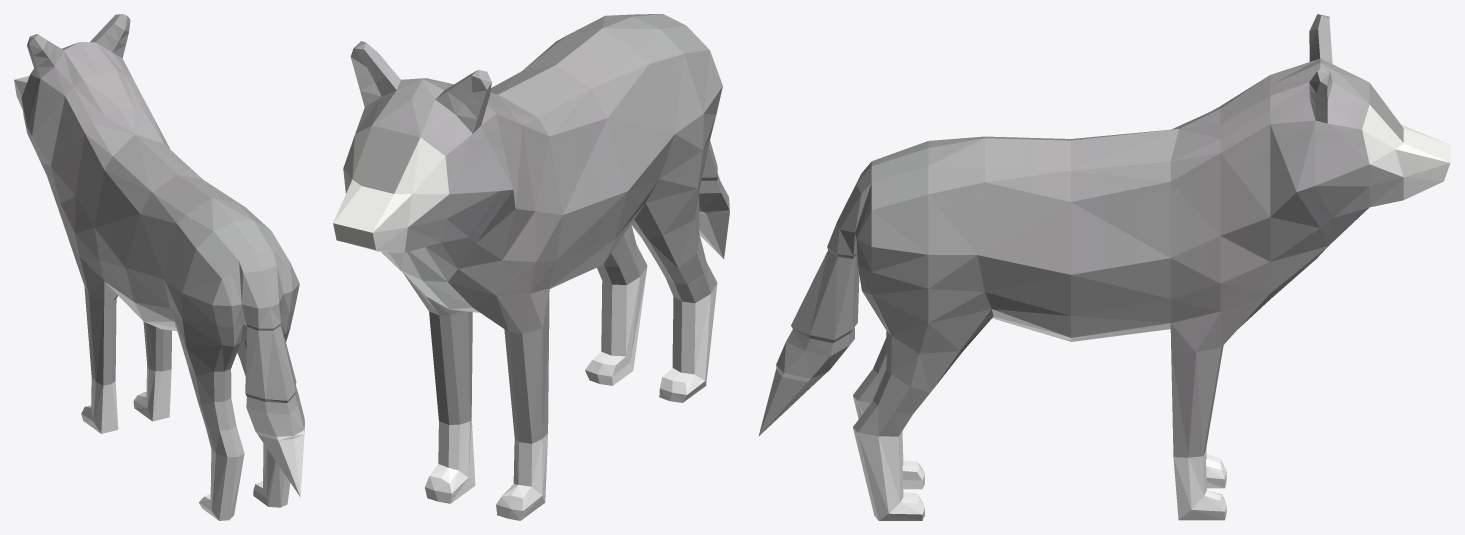
Rendered from grey-wolf_female.fbx.
3 renders of one model, left to right at view 1: azimuth 30°, elevation 25°; view 2: azimuth 150°, elevation 25°; view 3: azimuth 270°, elevation 25°, orthographic. The views are drawn at different scales.
Parts seen in each view (by area): view 1: Female Wolf; view 2: Female Wolf; view 3: Female Wolf.
Part boxes in pixels (x1,y1,x2,y2): Female Wolf: (14,14,304,520); Female Wolf: (333,14,729,520); Female Wolf: (759,14,1450,520).
Size of the model in its own units: 58.74 by 177 by 242.
